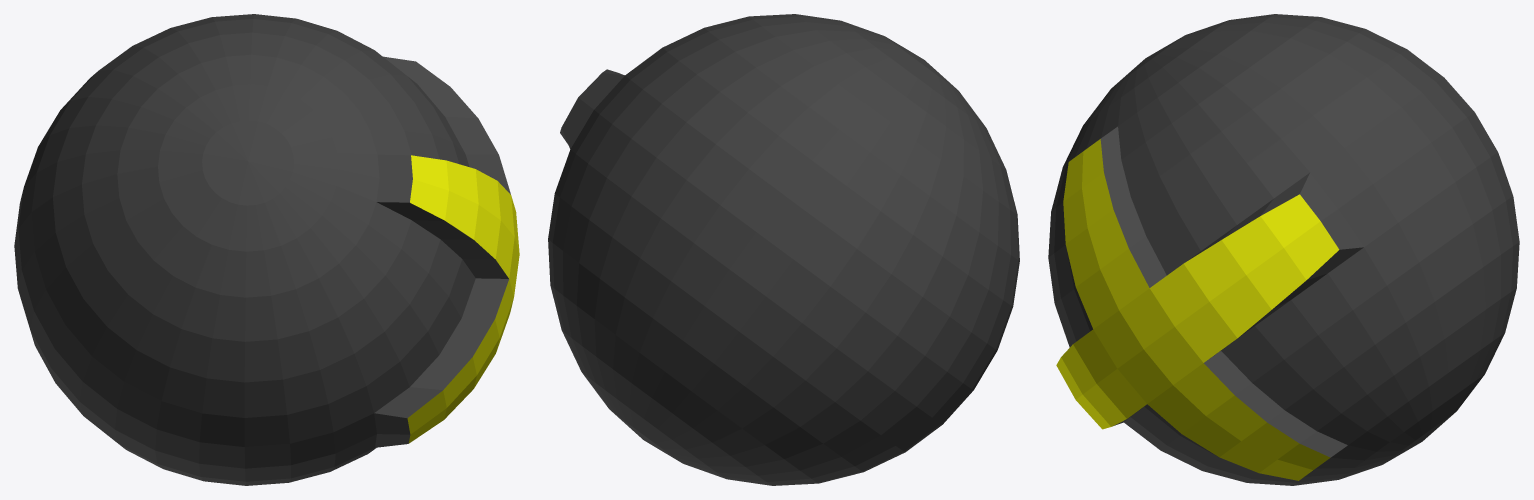
The picture shows the model from 3 angles, left to right: view 1: azimuth 30°, elevation 25°; view 2: azimuth 150°, elevation 25°; view 3: azimuth 270°, elevation 25°; orthographic projection.
Parts seen in each view (by area): view 1: Sphere; view 2: Sphere; view 3: Sphere.
Boxes of the visible parts, x1,y1,x2,y2 form: Sphere: (14, 14, 519, 485); Sphere: (548, 14, 1019, 485); Sphere: (1048, 14, 1519, 485).
Bounding box in the file's own units: 2.11 × 2 × 1.99.
